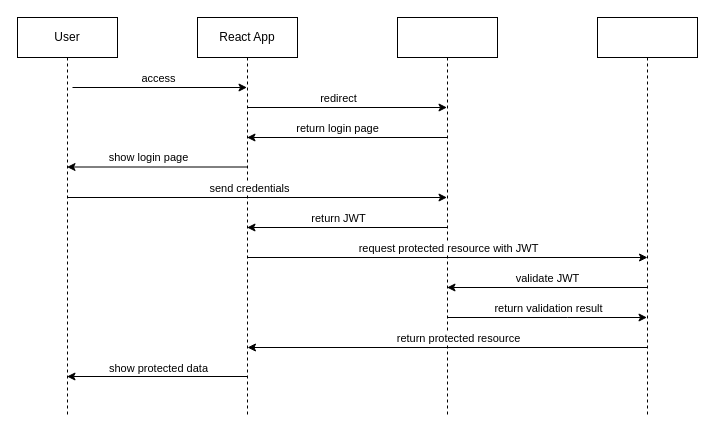
This 715x435 diagram has some shape labels left out. Each missing label, with the box of its shape:
Auth Server (e. g. Keycloak): (396, 16, 498, 418)
Quarkus Backend: (596, 16, 698, 418)
